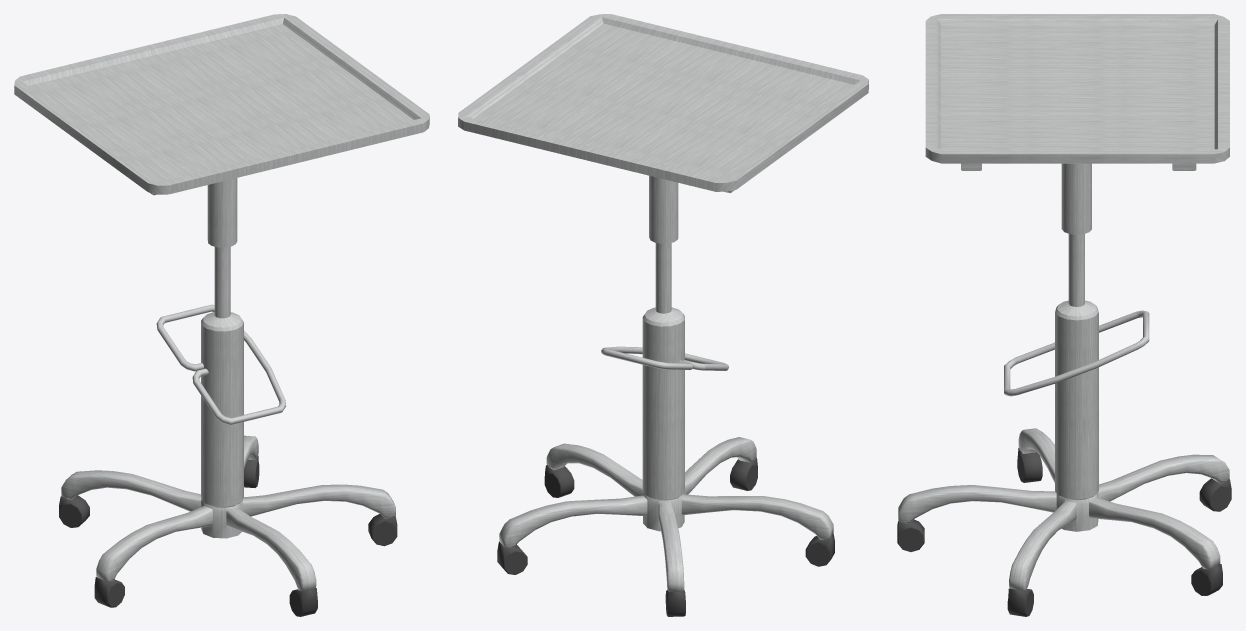
Rendered from Steel_Table_B.fbx.
3 views of the same model, side by side, from view 1: azimuth 30°, elevation 25°; view 2: azimuth 150°, elevation 25°; view 3: azimuth 270°, elevation 25° (orthographic). The views are drawn at different scales.
Visible parts, largest first — view 1: Steel_Table_B; view 2: Steel_Table_B; view 3: Steel_Table_B.
Boxes of the visible parts, x1,y1,x2,y2 form: Steel_Table_B: (14,14,429,616); Steel_Table_B: (458,14,868,616); Steel_Table_B: (897,14,1231,616).
Bounding box in the file's own units: 62.57 × 92.19 × 60.1.
